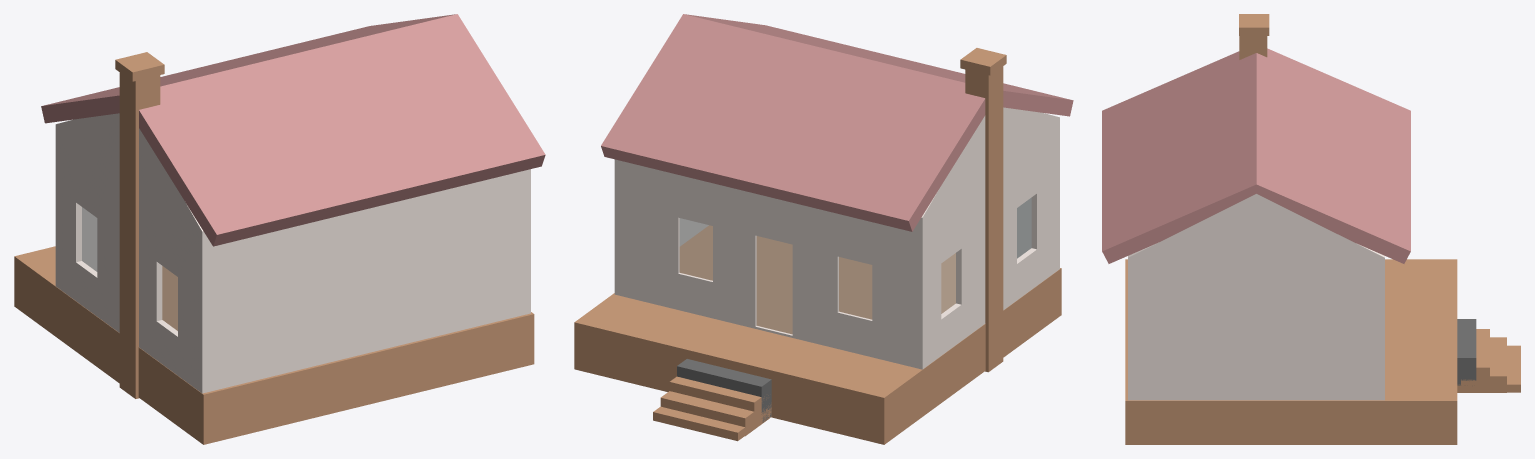
The model's file is town- pink house.fbx.
The picture shows the model from 3 angles, left to right: view 1: azimuth 30°, elevation 25°; view 2: azimuth 150°, elevation 25°; view 3: azimuth 270°, elevation 25°; orthographic projection. The views are drawn at different scales.
Visible parts, largest first — view 1: polySurface14, polySurface11, pCube70, pCube79, pasted__pCube78; view 2: polySurface14, polySurface11, pCube70, pCube79, pCube71, pCube72, pCube73, pCube74, pasted__pCube78; view 3: polySurface11, polySurface14, pCube70, pCube71, pCube73, pCube72, pasted__pCube78, pCube74, pCube79.
Part boxes in pixels (<box>): polySurface14: <box>55,113,530,393</box>; polySurface11: <box>41,14,545,246</box>; pCube70: <box>14,246,534,444</box>; pCube79: <box>119,72,160,398</box>; pasted__pCube78: <box>115,52,164,81</box>; polySurface14: <box>614,107,1059,369</box>; polySurface11: <box>601,14,1073,231</box>; pCube70: <box>574,225,1061,444</box>; pCube79: <box>965,66,1003,372</box>; pCube71: <box>677,359,771,422</box>; pCube72: <box>669,376,771,429</box>; pCube73: <box>660,391,769,436</box>; pCube74: <box>653,406,762,441</box>; pasted__pCube78: <box>960,48,1006,75</box>; polySurface11: <box>1102,48,1410,263</box>; polySurface14: <box>1128,194,1384,400</box>; pCube70: <box>1125,259,1457,444</box>; pCube71: <box>1457,319,1476,385</box>; pCube73: <box>1461,337,1506,392</box>; pCube72: <box>1457,329,1489,392</box>; pasted__pCube78: <box>1239,14,1269,35</box>; pCube74: <box>1483,345,1520,392</box>; pCube79: <box>1239,36,1267,59</box>.
Bounding box in the file's own units: 15.38 × 14.3 × 18.86.
